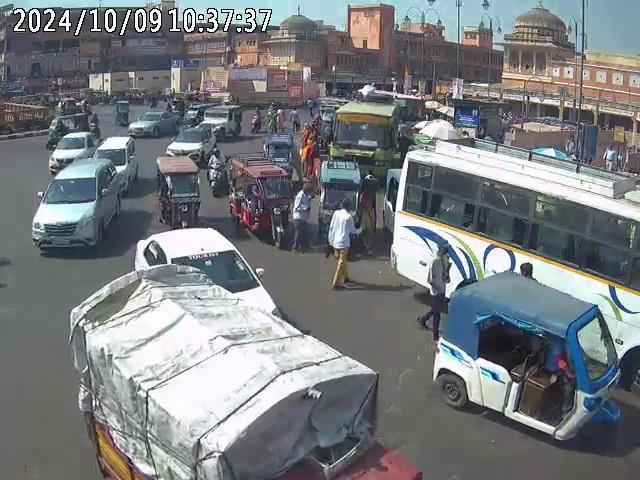auto: (432, 268, 624, 460), (229, 155, 296, 245), (154, 152, 203, 230), (114, 99, 131, 126)
bus: (387, 136, 640, 384), (329, 86, 403, 184)
car: (32, 156, 124, 258), (94, 135, 138, 194), (48, 132, 96, 174), (194, 102, 243, 138), (128, 108, 178, 138)
license_plate: (53, 239, 71, 244)
lorry: (68, 262, 419, 480)
person: (417, 243, 454, 333), (324, 200, 356, 290), (291, 181, 317, 250), (603, 144, 618, 173)
scooty-rider: (207, 148, 232, 198)
